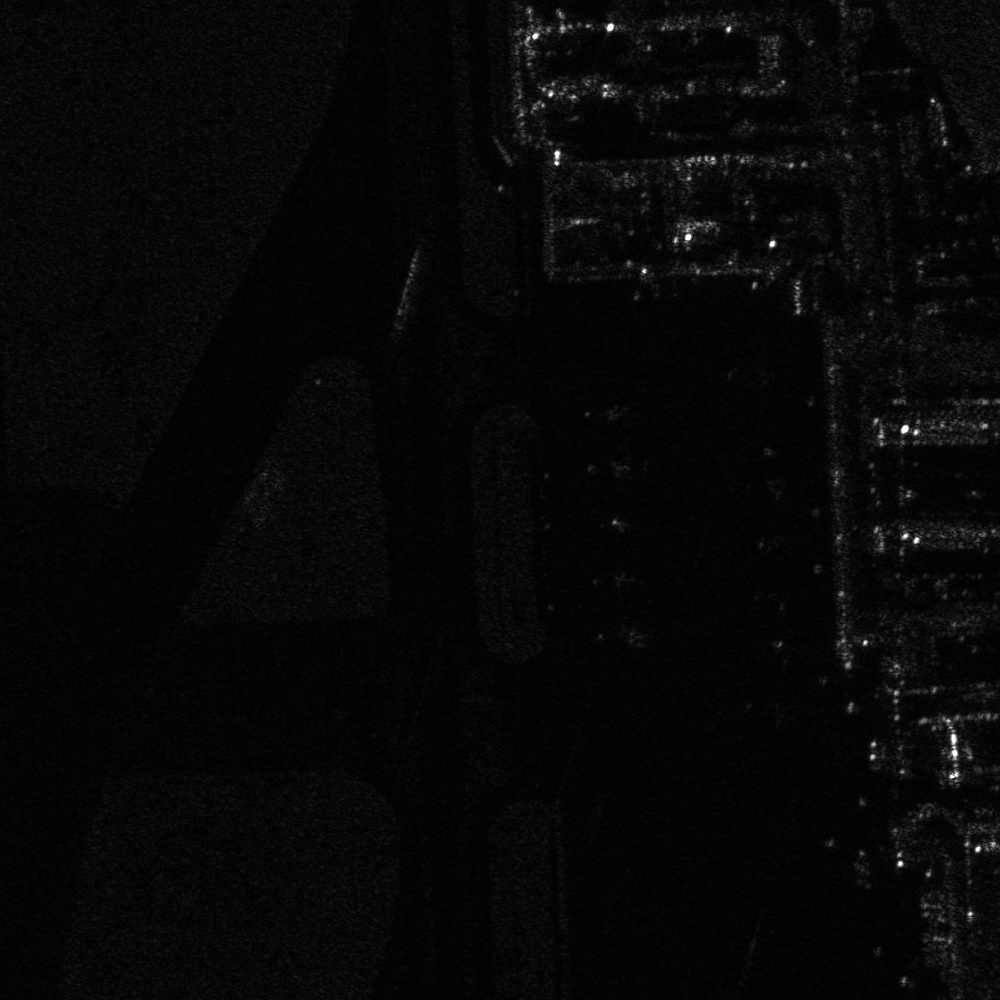ARJ21: (583, 449, 640, 486), (597, 504, 648, 541)
other: (585, 559, 645, 599), (591, 614, 654, 652), (582, 392, 636, 430)
